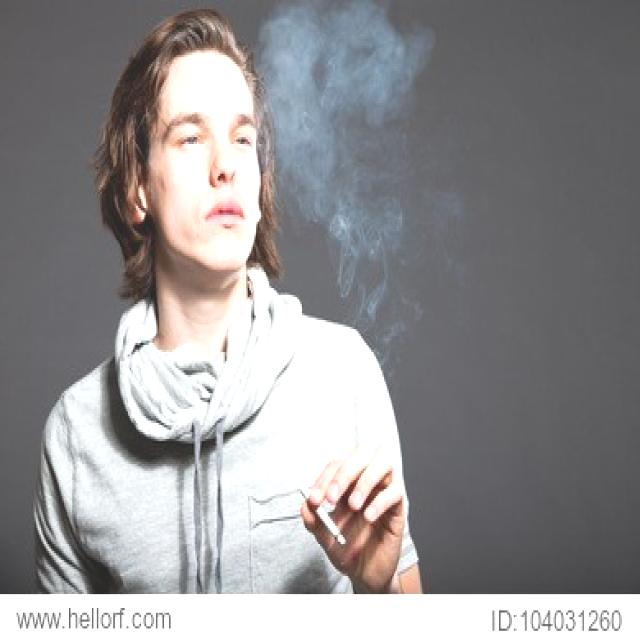smoke: (291, 476, 356, 562)
